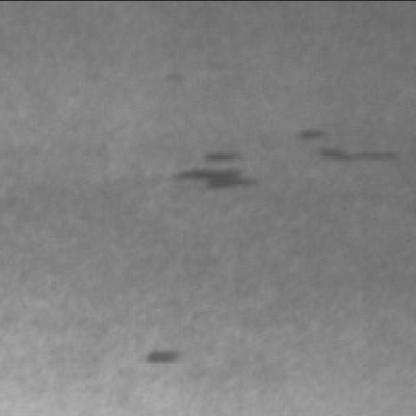inclusion: (294, 127, 405, 173), (172, 150, 266, 198), (142, 348, 196, 372)
